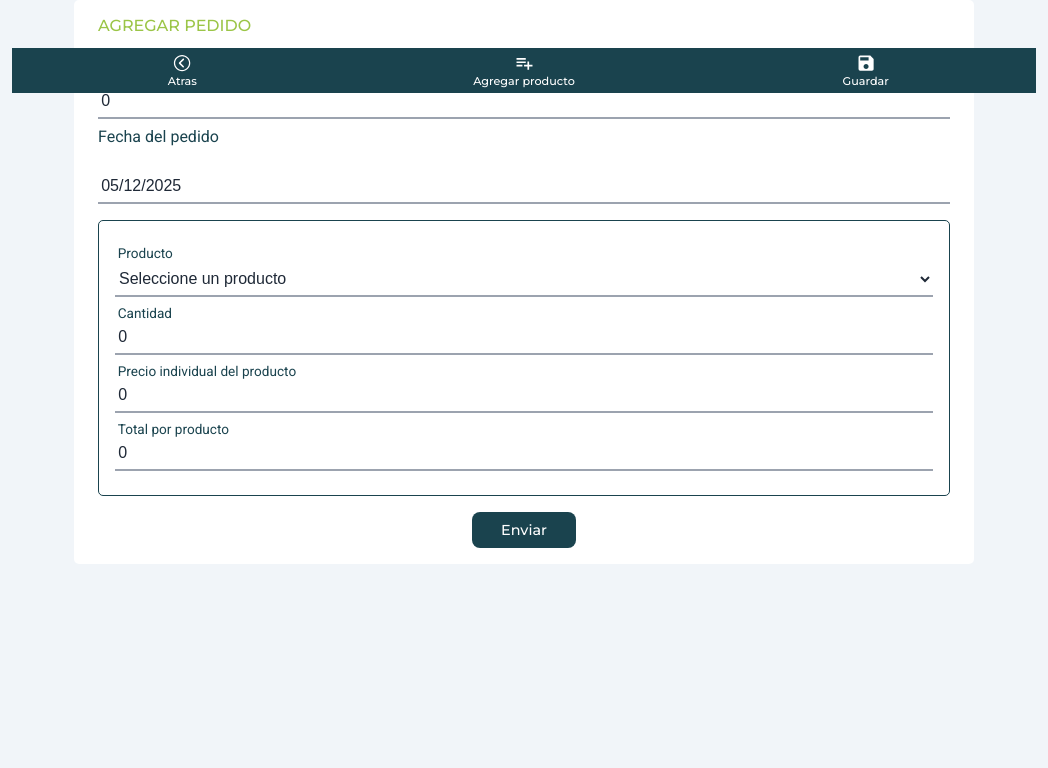
Test case: AddEditOrderPage › Add Order Mode › handles submission with empty product field
This screenshot has width=1048, height=768.
Check: the dropdown labelled "Producto" is shown, box [115,261,933,297]
Click the button "Guardar" at coordinates (866, 70), box [695,48,1036,93]
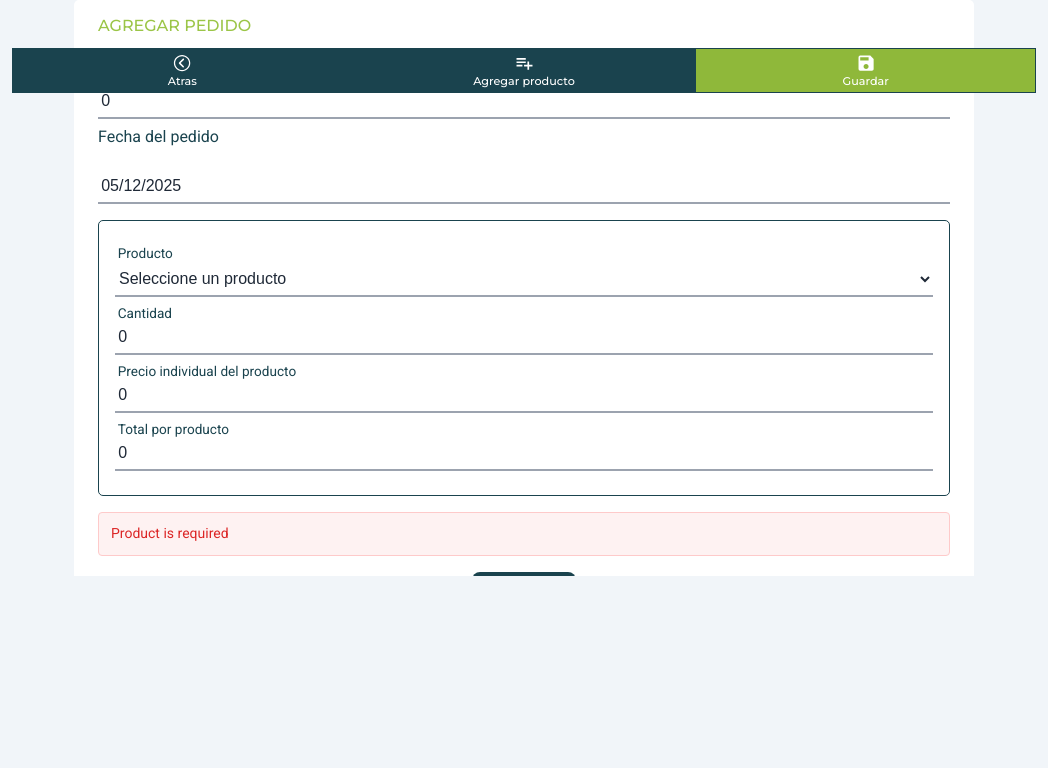
Check: the text "Product is required" is shown, box [98,512,950,556]
